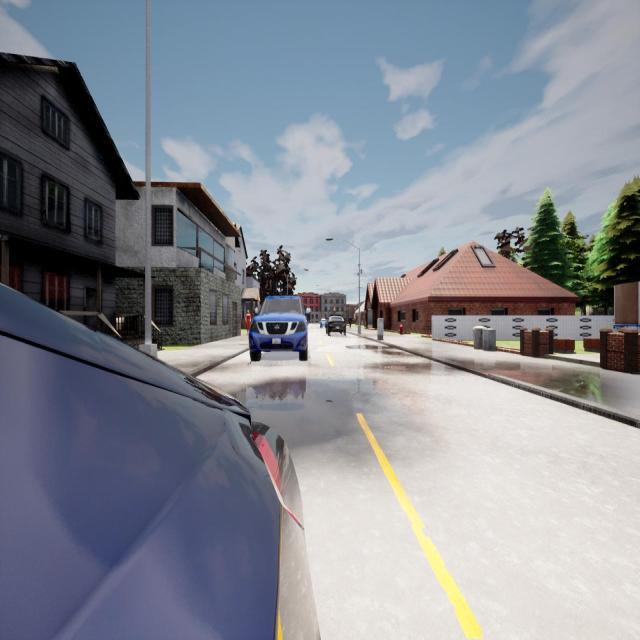Pedestrian: (245, 310, 251, 335), (349, 314, 352, 328)
Vehicle: (0, 284, 316, 638), (250, 296, 308, 360), (326, 316, 346, 336), (320, 319, 326, 328)
traffic_light: (334, 309, 336, 314)
